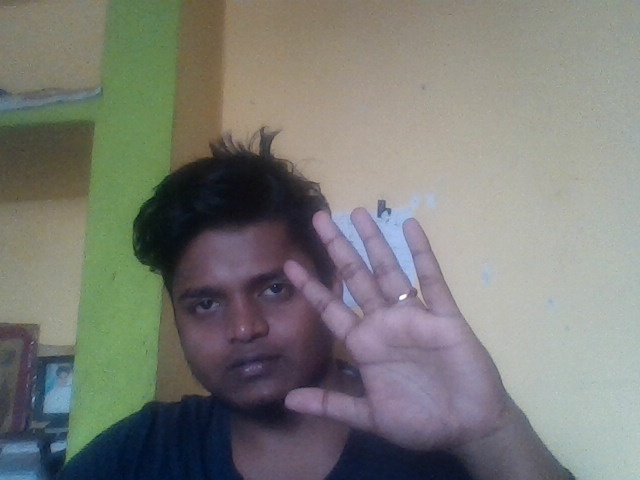Hello: (273, 198, 518, 448)
